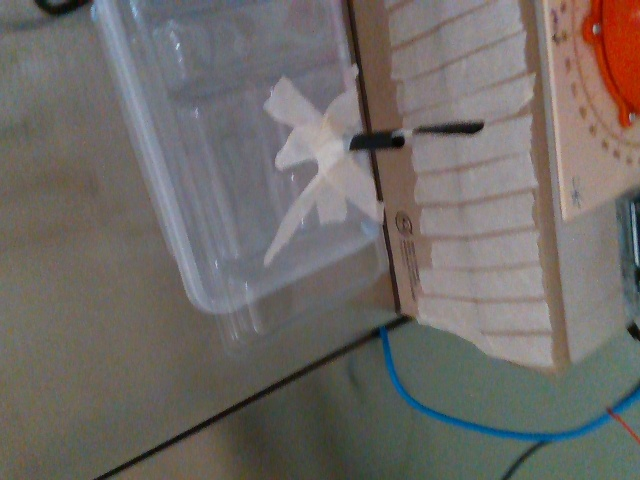test_strip: (392, 120, 482, 135)
